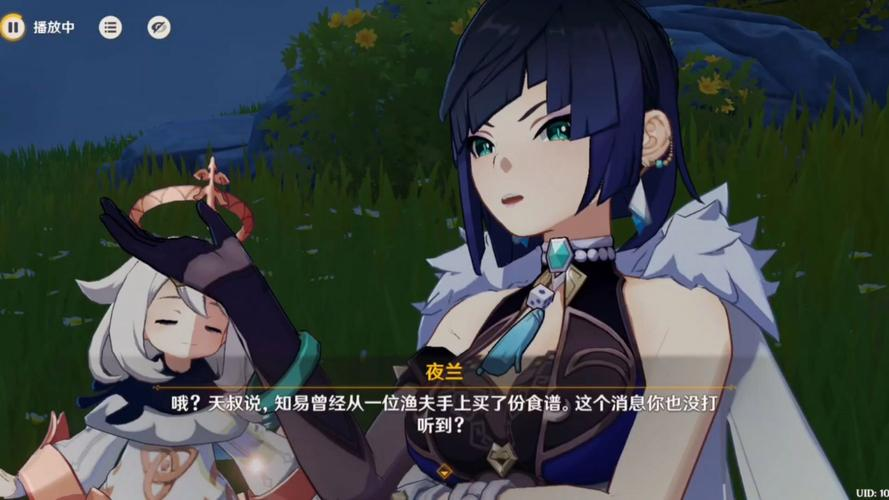夜兰: (86, 7, 738, 500)
